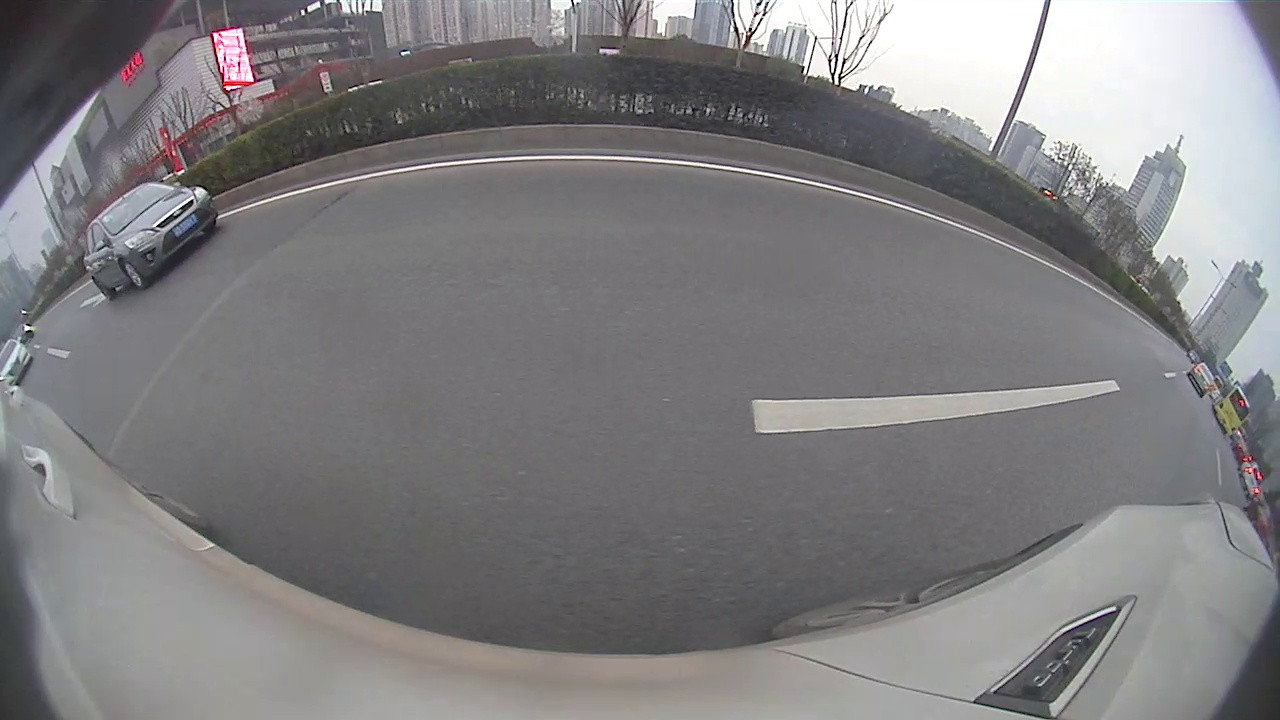car: (81, 182, 217, 300)
front: (123, 259, 147, 288)
rear: (94, 279, 113, 301)
